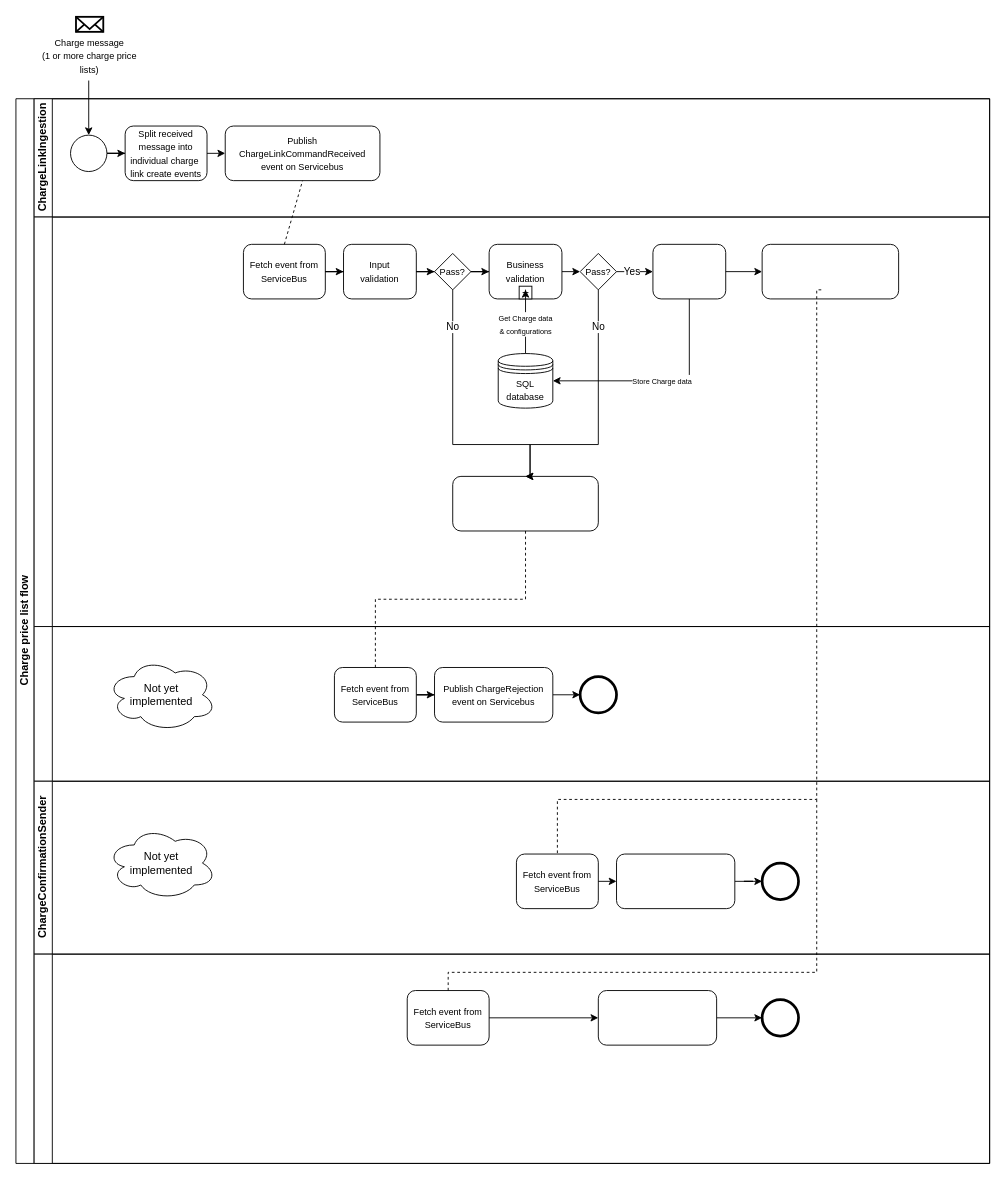
Image size: 1006x1179. Some labels were removed from this diagram. The box of each missing label's shape, as (x1, y1, x2, y2) in pixels:
ChargeLinkCommandReceiverEndpoint: (33, 216, 990, 627)
ChargeLinkEventPublisherEndpoint: (33, 953, 990, 1163)
ChargeRejectionSender: (33, 626, 990, 781)
Persist event data: (652, 243, 726, 299)
Publish ChargeConfirmation event on Servicebus: (616, 853, 735, 909)
Publish ChargeLinkCommandAccepted event on ServiceBus: (761, 243, 899, 299)
Publish ChargeLinkCommandRejected event on ServiceBus: (452, 475, 598, 531)
Publish ChargeLinkCreated event on Servicebus: (597, 990, 717, 1045)
